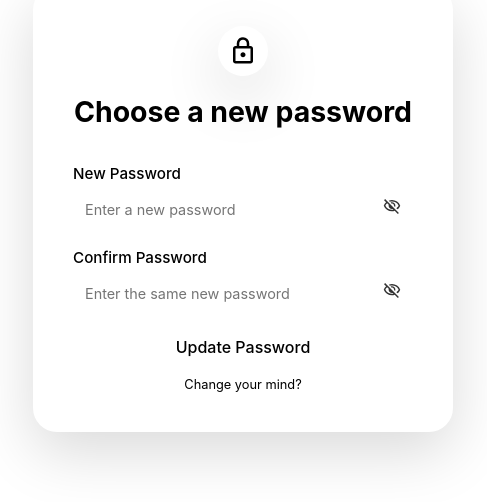
Test: ResetPasswordComponent › With Token › should show an error message on unknown request API errors
The width and height of the screenshot is (487, 502).
Type "j123456!" into the password field labelled "New Password". click: (243, 209)
box: [73,191,413,228]
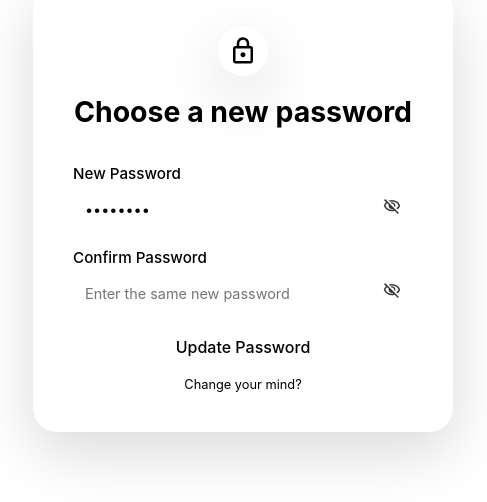
Type "j123456!" into the password field labelled "Confirm Password". click: (243, 293)
box: [73,275,413,312]
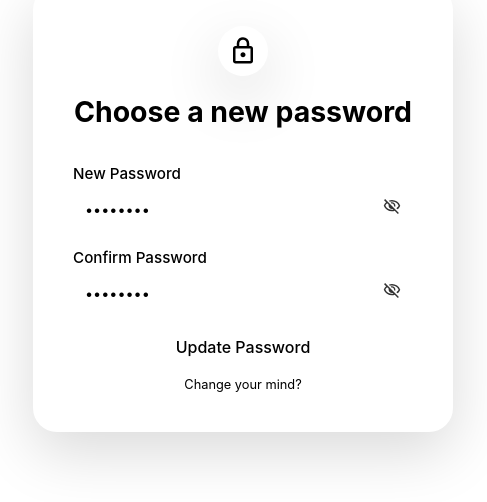
Click the button "Update Password". click: (243, 347)
box: [154,327,332,367]
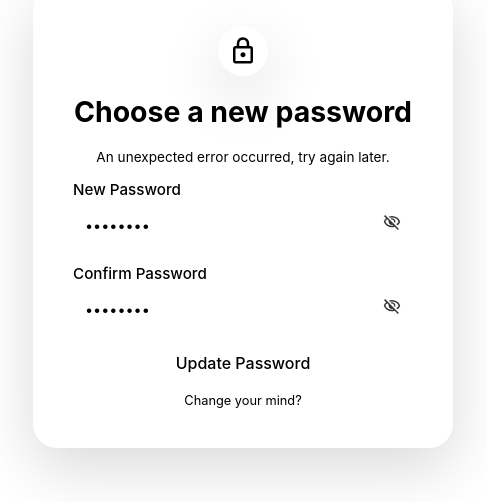
Expected: the text "An unexpected error occurred, try again later." is shown, [73,149,413,165]
Expected: the text with class "general" reads "An unexpected error occurred, try again later.", [96,149,390,165]
